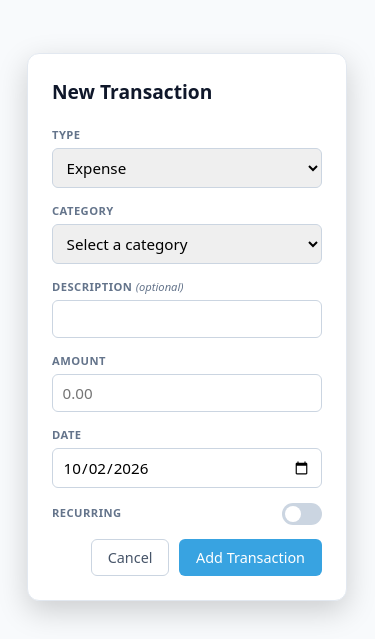
Scenario: AddTransactionDialog › shows the Requires income toggle only for savings
Expected: the text "Requires income" is not shown
Select "Savings" in the dropdown labelled "Type" at (187,168), box [52, 148, 322, 188]
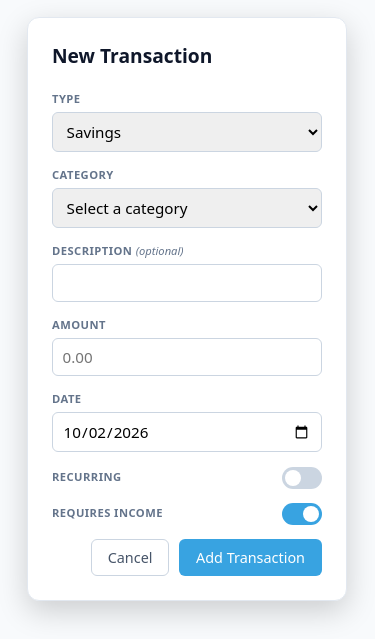
Result: the text "Requires income" is shown at [52, 505, 163, 522]
